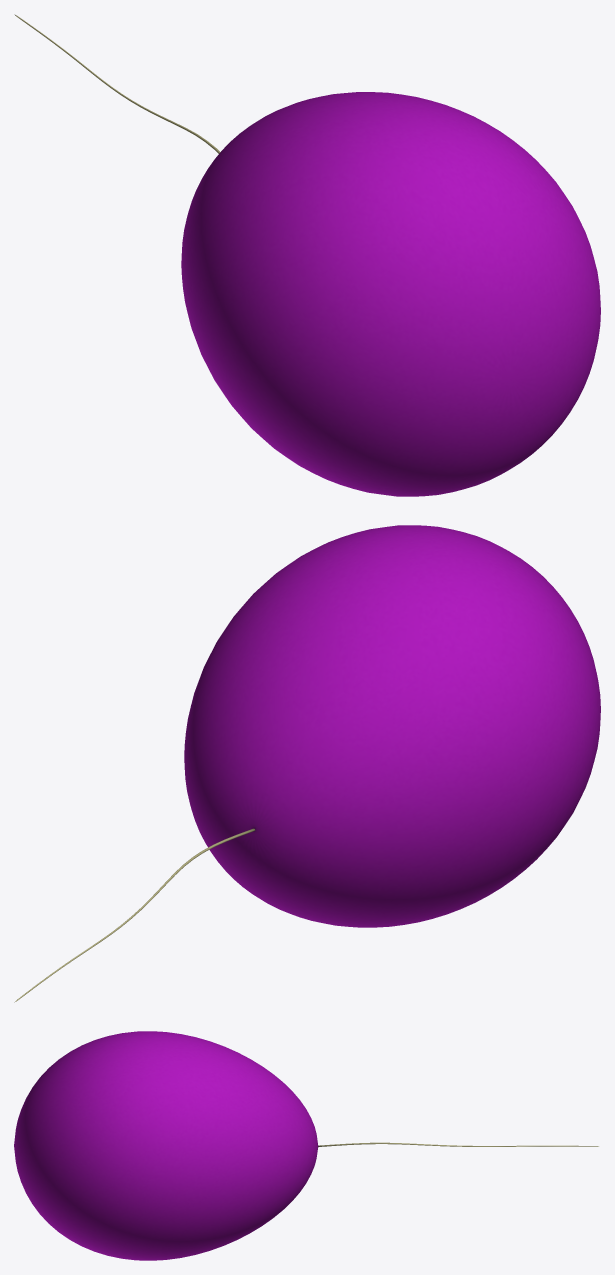
The model's file is balloon.obj.
3 views of the same model, one above another, from view 1: azimuth 30°, elevation 25°; view 2: azimuth 150°, elevation 25°; view 3: azimuth 270°, elevation 25° (orthographic). The views are drawn at different scales.
Visible parts, largest first — view 1: Sphere002; view 2: Sphere002; view 3: Sphere002.
Part boxes in pixels (x1,y1,x2,y2): Sphere002: [14, 14, 600, 496]; Sphere002: [14, 525, 600, 1002]; Sphere002: [14, 1031, 598, 1260].
Size of the model in its own units: 24.85 by 24.85 by 63.45.
Materials: 1 (1 with a texture image).
